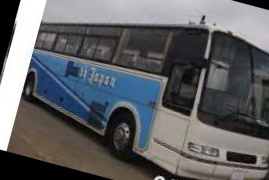bus: (12, 0, 269, 180)
